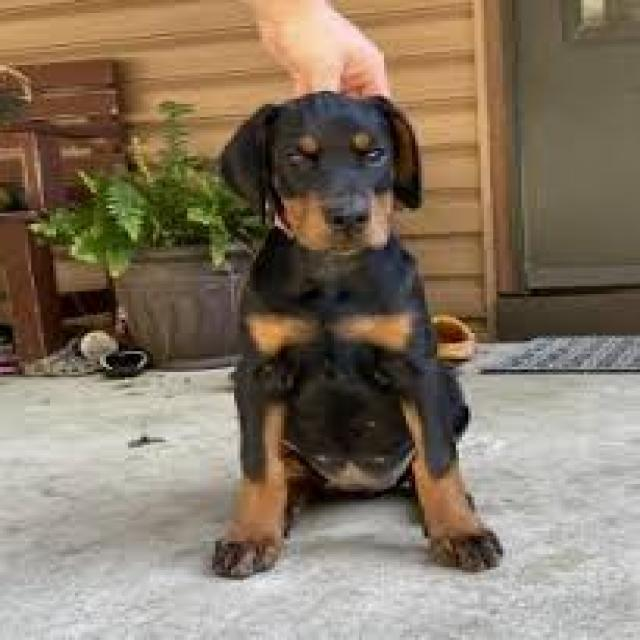Dog: (202, 82, 512, 580)
